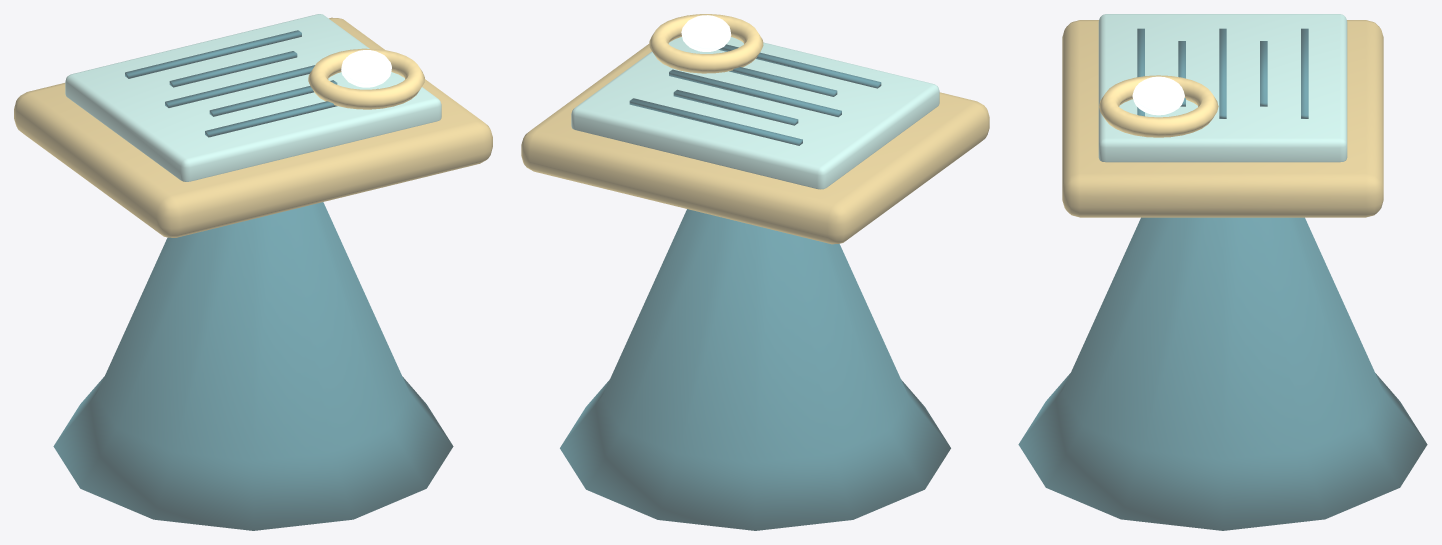
Rendered from atlantis_detail_relic.glb.
The picture shows the model from 3 angles, left to right: view 1: azimuth 30°, elevation 25°; view 2: azimuth 150°, elevation 25°; view 3: azimuth 270°, elevation 25°; orthographic projection. The views are drawn at different scales.
Visible parts, largest first — view 1: atlantis_detail_relic_surface; view 2: atlantis_detail_relic_surface; view 3: atlantis_detail_relic_surface.
Part boxes in pixels (left/top/right/bottom): atlantis_detail_relic_surface: left=14, top=14, right=492, bottom=530; atlantis_detail_relic_surface: left=521, top=14, right=989, bottom=530; atlantis_detail_relic_surface: left=1018, top=14, right=1427, bottom=530.
Size of the model in its own units: 1.4 by 1.53 by 1.4.
